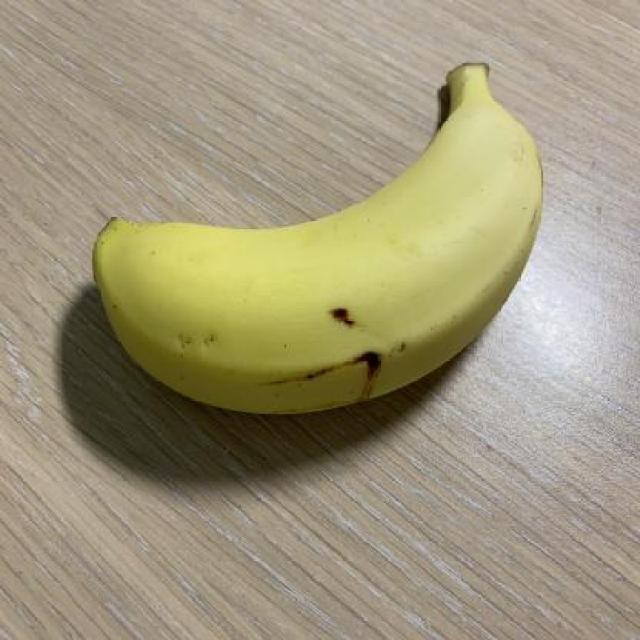Banana: (84, 53, 546, 422)
